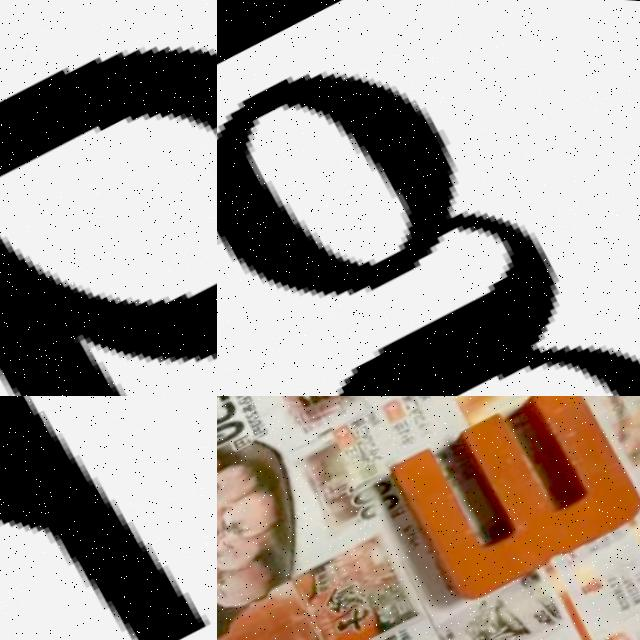A: (0, 0, 217, 396)
G: (217, 0, 640, 396)
K: (0, 396, 217, 640)
W: (382, 396, 640, 615)
Y: (217, 396, 263, 580)
